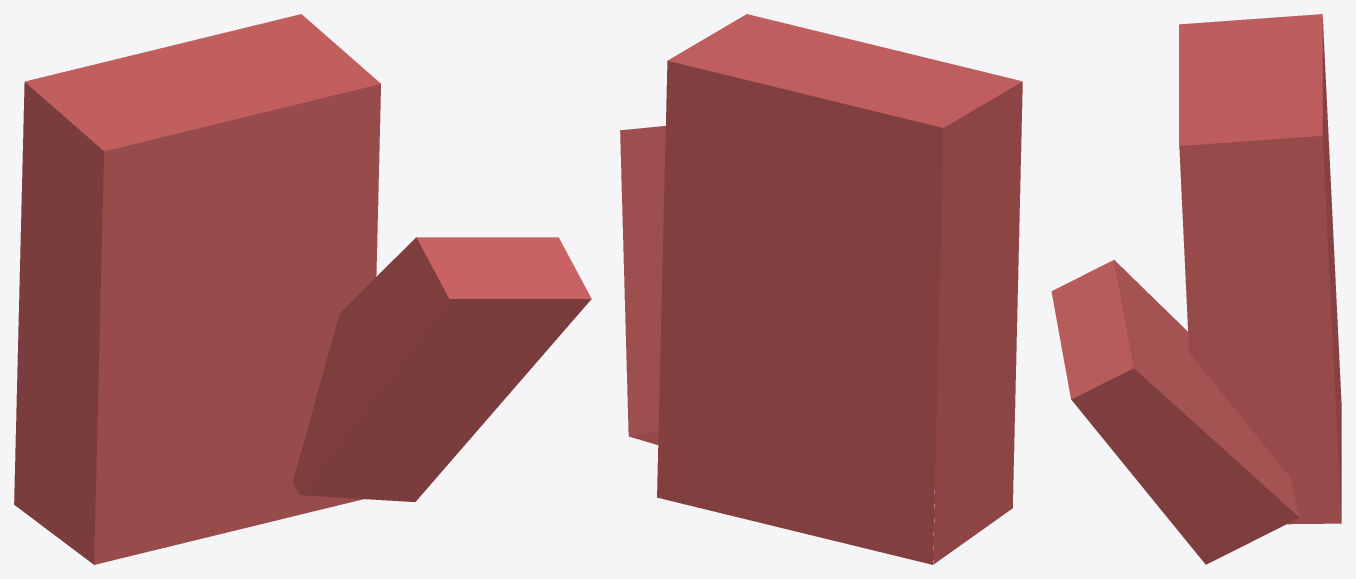
File: iwante_wait_r.glb
3 views of the same model, side by side, from view 1: azimuth 30°, elevation 25°; view 2: azimuth 150°, elevation 25°; view 3: azimuth 270°, elevation 25° (orthographic). The views are drawn at different scales.
Parts seen in each view (by area): view 1: iwante_wait_r_col; view 2: iwante_wait_r_col; view 3: iwante_wait_r_col.
Part boxes in pixels (x1,y1,x2,y2): iwante_wait_r_col: (14, 14, 591, 564); iwante_wait_r_col: (620, 14, 1022, 564); iwante_wait_r_col: (1051, 14, 1341, 564).
Bounding box in the file's own units: 4.28 × 4.31 × 2.78.
